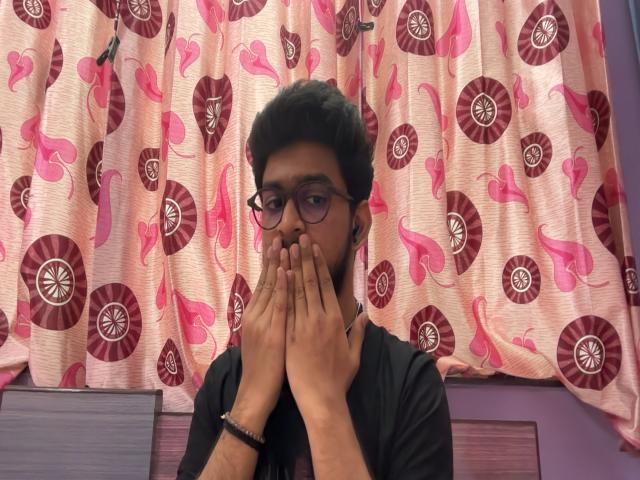Thanks: (235, 232, 372, 421)
